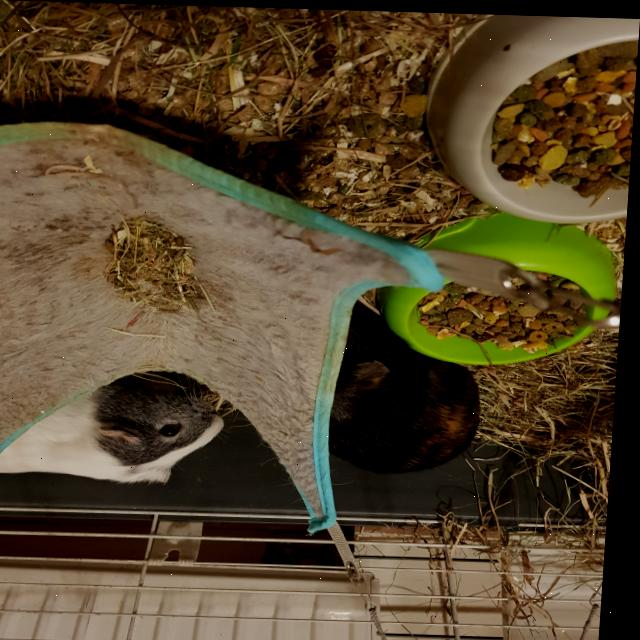guinea pig: (331, 303, 493, 480), (0, 368, 236, 489)
